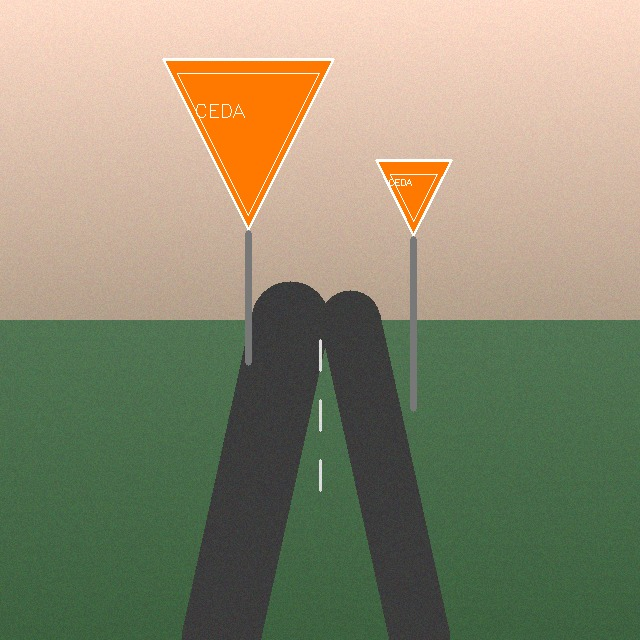ceda_el_paso: (159, 55, 337, 233), (372, 156, 455, 239)
